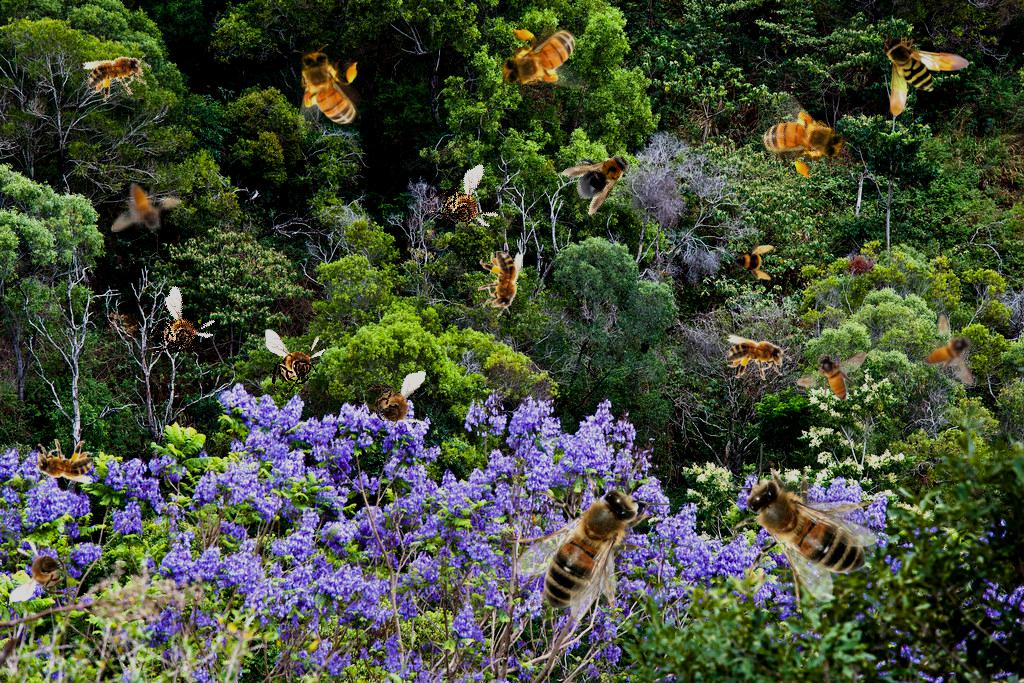Bee: (506, 459, 673, 621), (716, 444, 878, 611), (744, 83, 860, 194), (135, 285, 226, 377), (880, 31, 972, 117), (418, 163, 509, 249), (559, 133, 645, 217), (293, 44, 361, 137), (495, 25, 588, 93), (356, 370, 435, 442), (80, 42, 158, 107), (9, 541, 79, 602), (265, 329, 326, 399), (924, 314, 974, 385), (796, 351, 867, 401), (111, 183, 182, 233), (28, 439, 94, 484), (478, 251, 523, 317), (726, 335, 792, 380), (730, 238, 774, 282)
